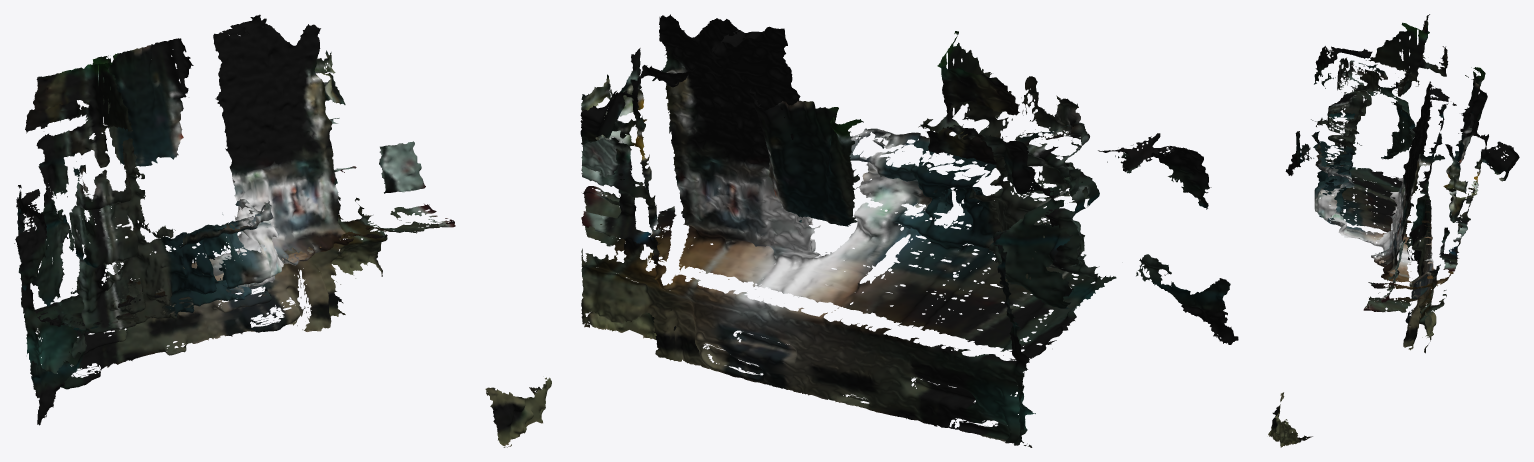
The model's file is color_model_f006_20251226_162848.obj.
3 renders of one model, left to right at view 1: azimuth 30°, elevation 25°; view 2: azimuth 150°, elevation 25°; view 3: azimuth 270°, elevation 25°, orthographic. The views are drawn at different scales.
Size of the model in its own units: 3.69 by 2.68 by 2.05.
